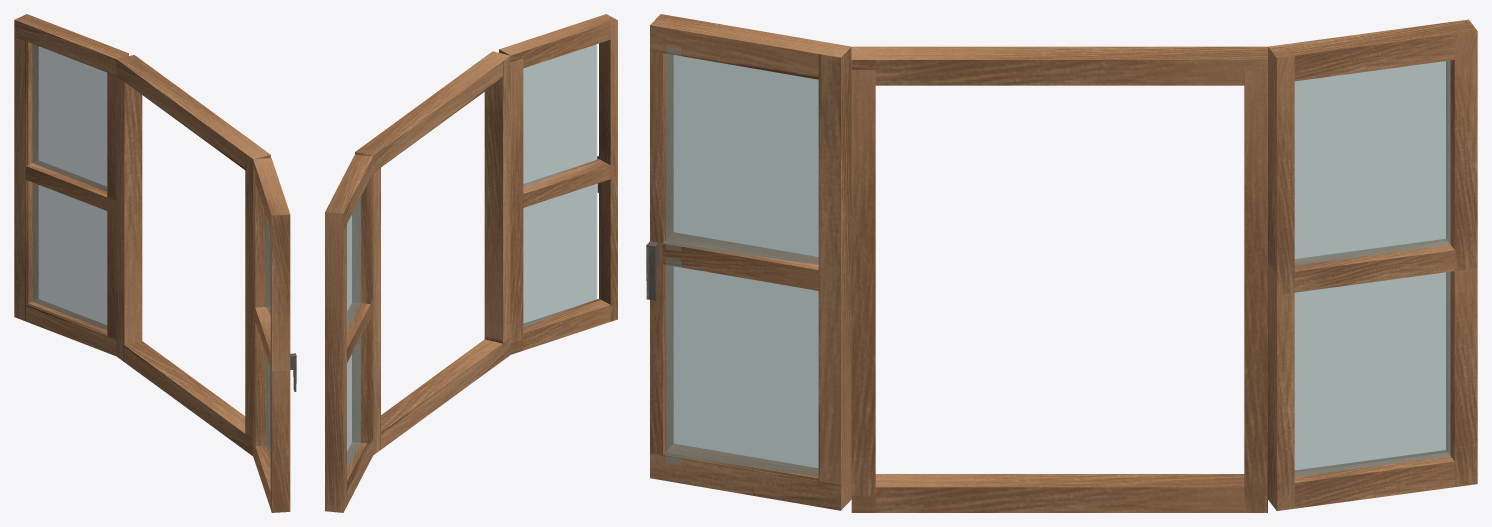
File: window_open-with-glass.fbx
The picture shows the model from 3 angles, left to right: view 1: azimuth 30°, elevation 25°; view 2: azimuth 150°, elevation 25°; view 3: azimuth 270°, elevation 25°; orthographic projection. The views are drawn at different scales.
Visible parts, largest first — view 1: polySurface7, Window_Center, Window_left, Window_right, polySurface2; view 2: Window_Center, polySurface2, Window_right, Window_left, polySurface7; view 3: polySurface2, polySurface7, Window_Center, Window_left, Window_right.
Part boxes in pixels (x1,y1,x2,y2): polySurface7: [32, 44, 107, 330]; Window_Center: [116, 55, 270, 455]; Window_left: [14, 14, 128, 355]; Window_right: [253, 158, 296, 512]; polySurface2: [266, 216, 270, 453]; Window_Center: [355, 51, 510, 454]; polySurface2: [523, 44, 596, 327]; Window_right: [499, 14, 617, 354]; Window_left: [325, 154, 373, 512]; polySurface7: [347, 198, 360, 469]; polySurface2: [666, 44, 818, 475]; polySurface7: [1294, 60, 1450, 476]; Window_Center: [851, 46, 1267, 512]; Window_left: [1268, 19, 1477, 510]; Window_right: [646, 14, 851, 510].
Size of the model in its own units: 1.31 by 6 by 9.98.
